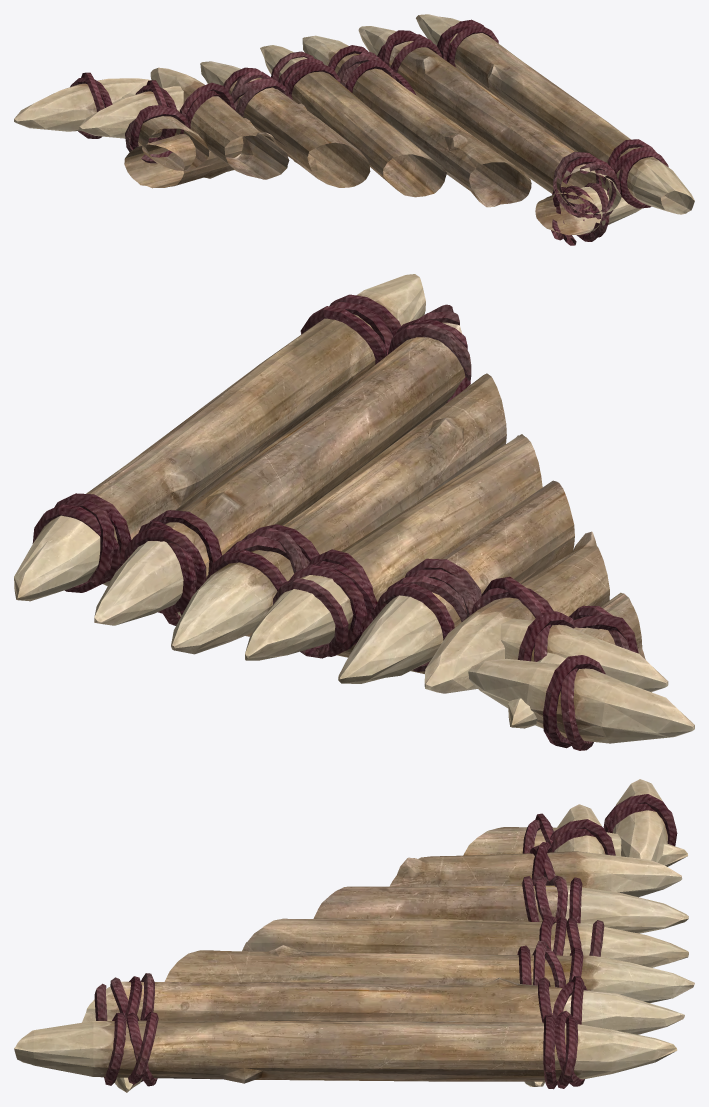
3 renders of one model, top to bottom at view 1: azimuth 30°, elevation 25°; view 2: azimuth 150°, elevation 25°; view 3: azimuth 270°, elevation 25°, orthographic. The views are drawn at different scales.
Visible parts, largest first — view 1: SM_Garou_Set_SM_LogPlatform_4x4_45_LOD0; view 2: SM_Garou_Set_SM_LogPlatform_4x4_45_LOD0; view 3: SM_Garou_Set_SM_LogPlatform_4x4_45_LOD0.
Boxes of the visible parts, x1,y1,x2,y2 form: SM_Garou_Set_SM_LogPlatform_4x4_45_LOD0: [14, 14, 694, 245]; SM_Garou_Set_SM_LogPlatform_4x4_45_LOD0: [14, 274, 694, 750]; SM_Garou_Set_SM_LogPlatform_4x4_45_LOD0: [14, 779, 694, 1092].
Bounding box in the file's own units: 3.7 × 0.6968 × 3.88.
Materials: 1 (1 with a texture image).
